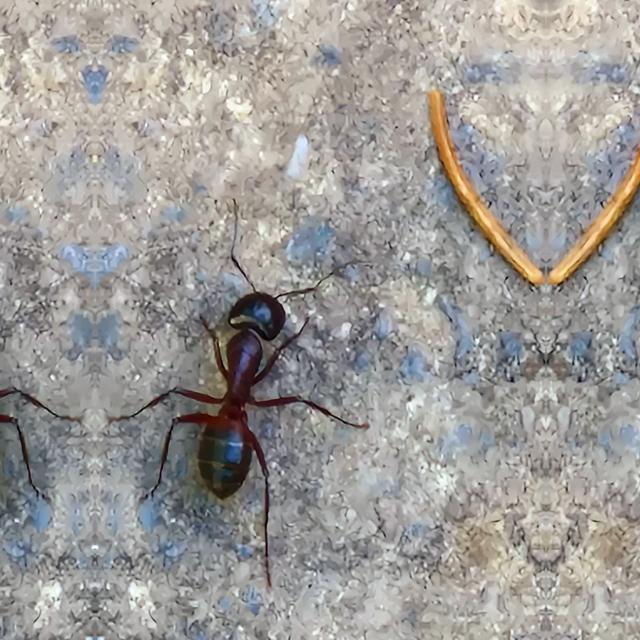Camponotus: (158, 241, 326, 544)
